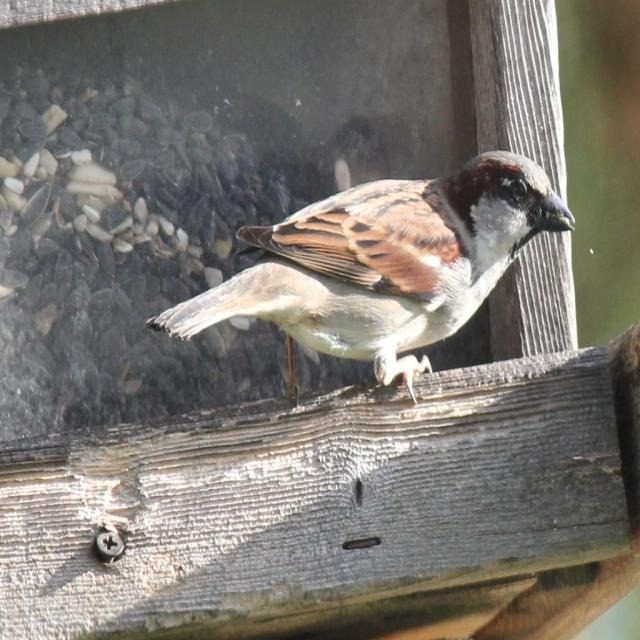bird: (146, 128, 584, 416)
